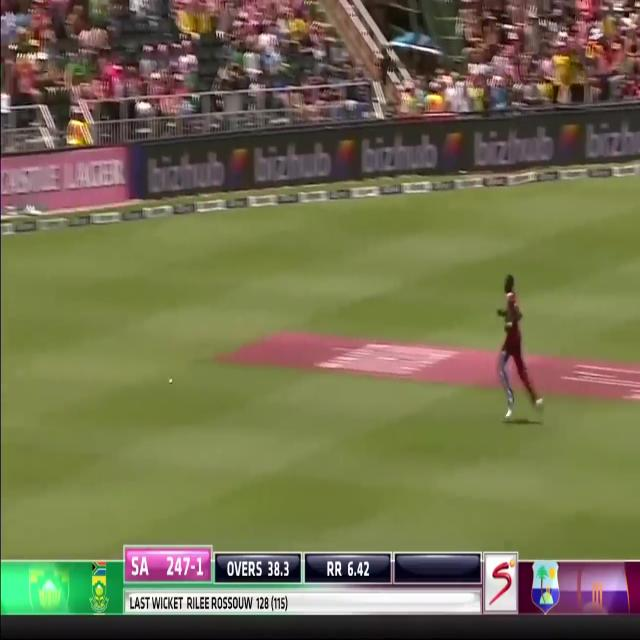Fielder: (488, 267, 547, 423)
